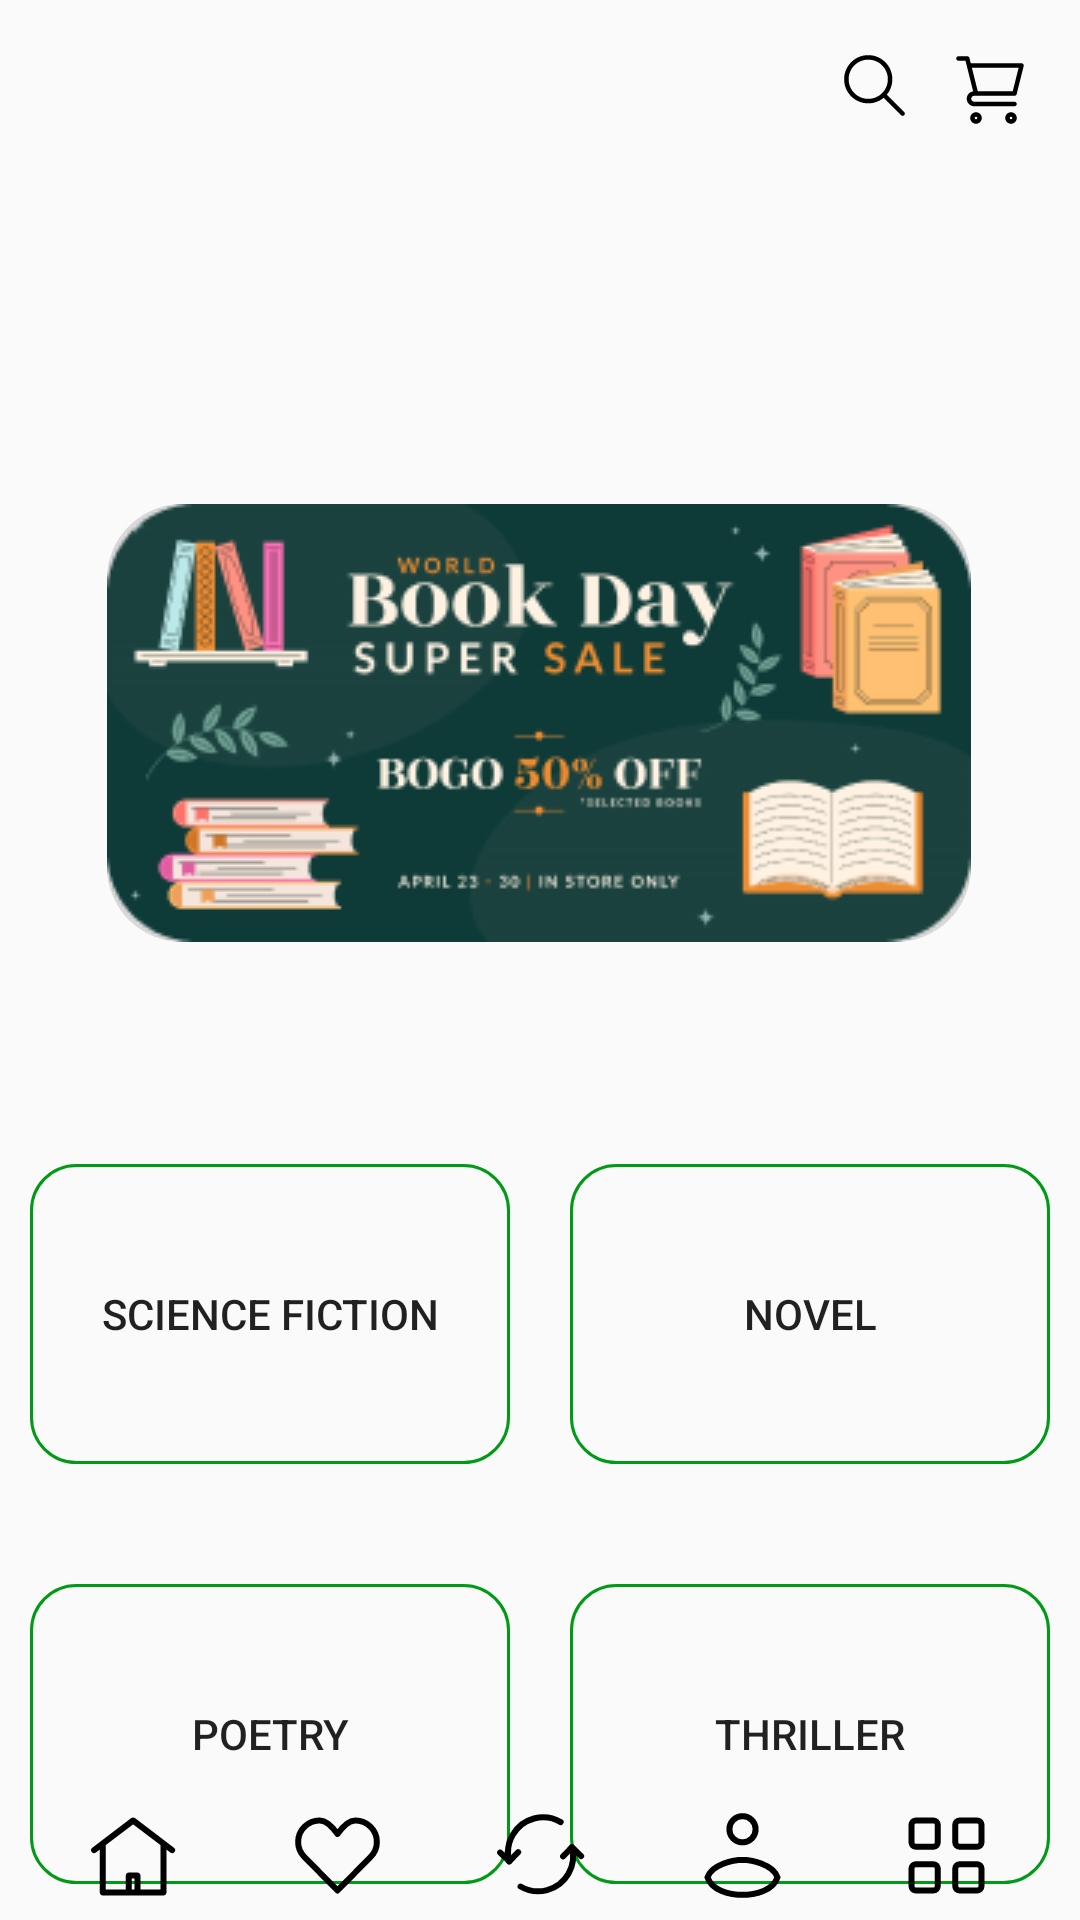

Where to tap for icons on this 1080×1920 app screen, as point (x, y):
cart: point (990, 90)
favorite: point (337, 1855)
home: point (133, 1856)
menu: point (946, 1855)
search: point (874, 85)
swap: point (540, 1853)
user: point (742, 1855)
